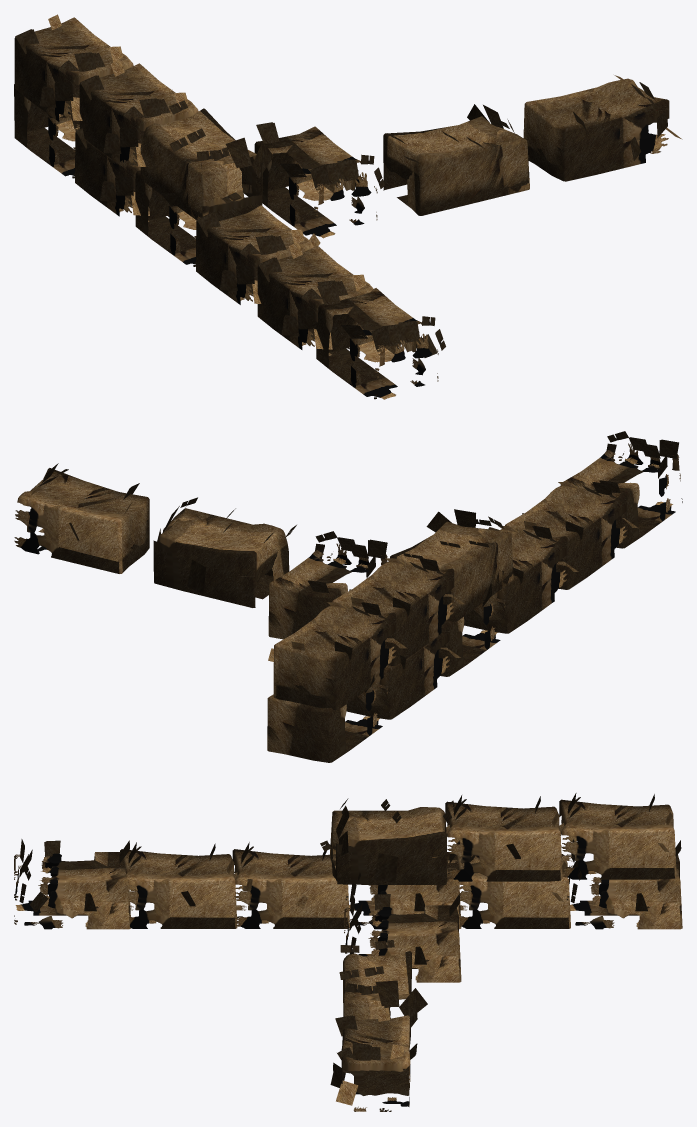
Rendered from Bale_Props2.fbx.
3 views of the same model, one above another, from view 1: azimuth 30°, elevation 25°; view 2: azimuth 150°, elevation 25°; view 3: azimuth 270°, elevation 25° (orthographic). The views are drawn at different scales.
Parts seen in each view (by area): view 1: Куб.006, Куб.008, Куб.007, Куб.009; view 2: Куб.006, Куб.008, Куб.007, Куб.009; view 3: Куб.006, Куб.007, Куб.009, Куб.008.
Boxes of the visible parts, x1=… form: Куб.006: x1=14, y1=14, x2=445, y2=399; Куб.008: x1=383, y1=104, x2=529, y2=215; Куб.007: x1=523, y1=75, x2=682, y2=181; Куб.009: x1=254, y1=122, x2=384, y2=238; Куб.006: x1=267, y1=431, x2=682, y2=762; Куб.008: x1=153, y1=497, x2=296, y2=607; Куб.007: x1=14, y1=463, x2=149, y2=573; Куб.009: x1=268, y1=531, x2=387, y2=639; Куб.006: x1=14, y1=793, x2=682, y2=929; Куб.007: x1=330, y1=1007, x2=417, y2=1111; Куб.009: x1=344, y1=892, x2=461, y2=982; Куб.008: x1=339, y1=940, x2=427, y2=1047.
Bounding box in the file's own units: 1073 × 256 × 1362.
Materials: 1 (1 with a texture image).
